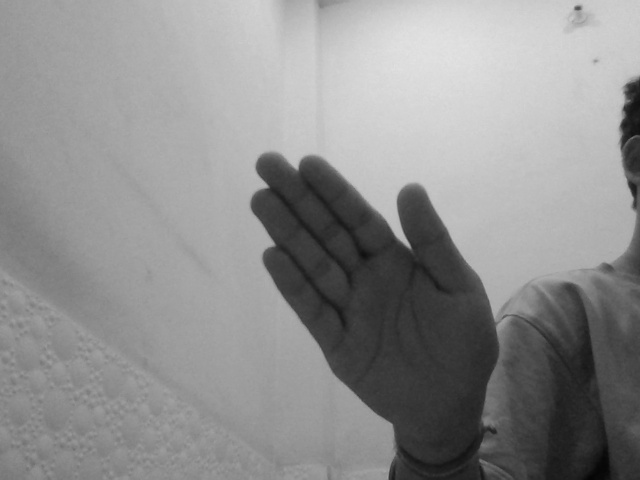Hello: (244, 144, 504, 441)
